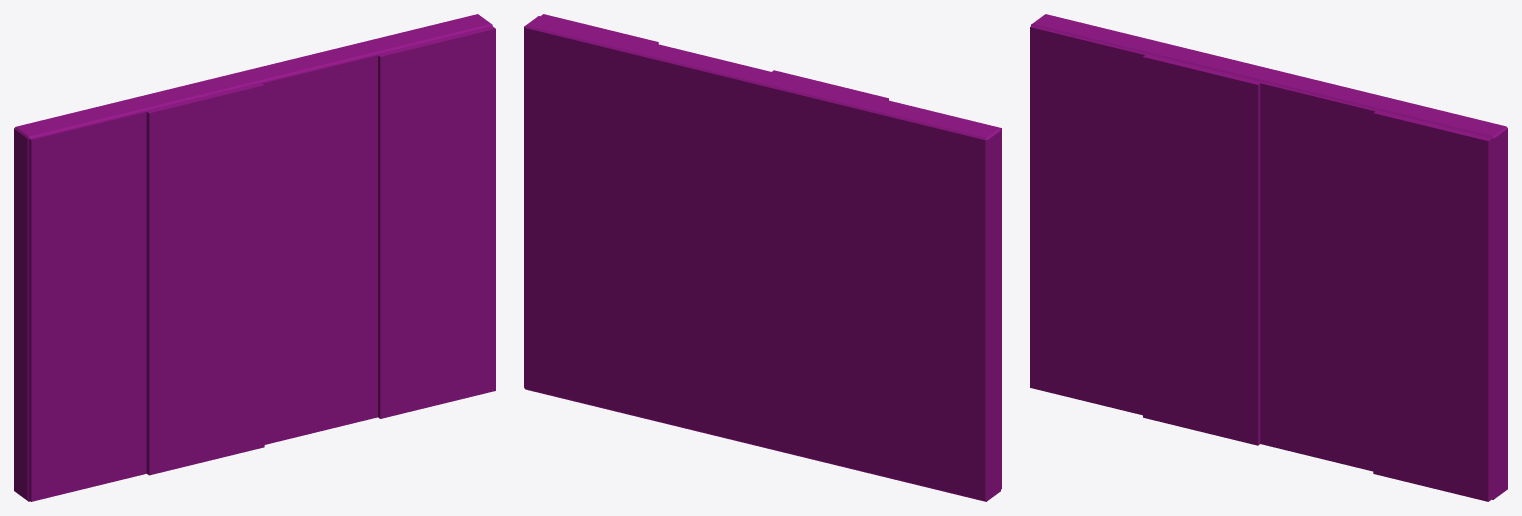
The model's file is NormalWall.fbx.
3 renders of one model, left to right at view 1: azimuth 30°, elevation 25°; view 2: azimuth 150°, elevation 25°; view 3: azimuth 330°, elevation 25°, orthographic.
Visible parts, largest first — view 1: wall_low; view 2: wall_low; view 3: wall_low.
Part boxes in pixels (left/top/right/bottom): wall_low: left=14, top=14, right=495, bottom=501; wall_low: left=524, top=14, right=1001, bottom=501; wall_low: left=1030, top=14, right=1507, bottom=501.
Size of the model in its own units: 14.83 by 11.12 by 1.04.
